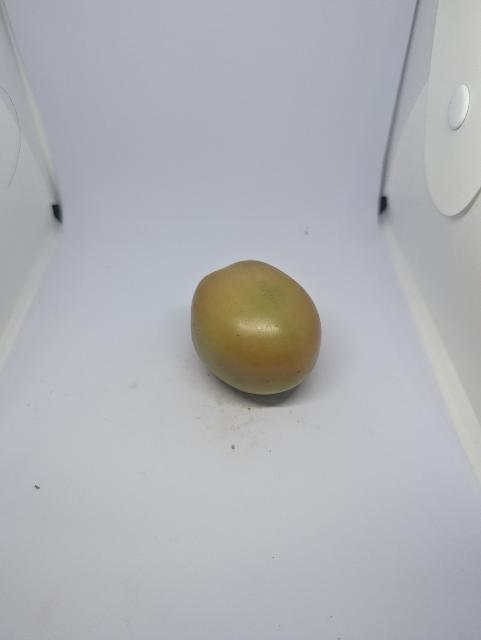breaker: (188, 259, 326, 399)
